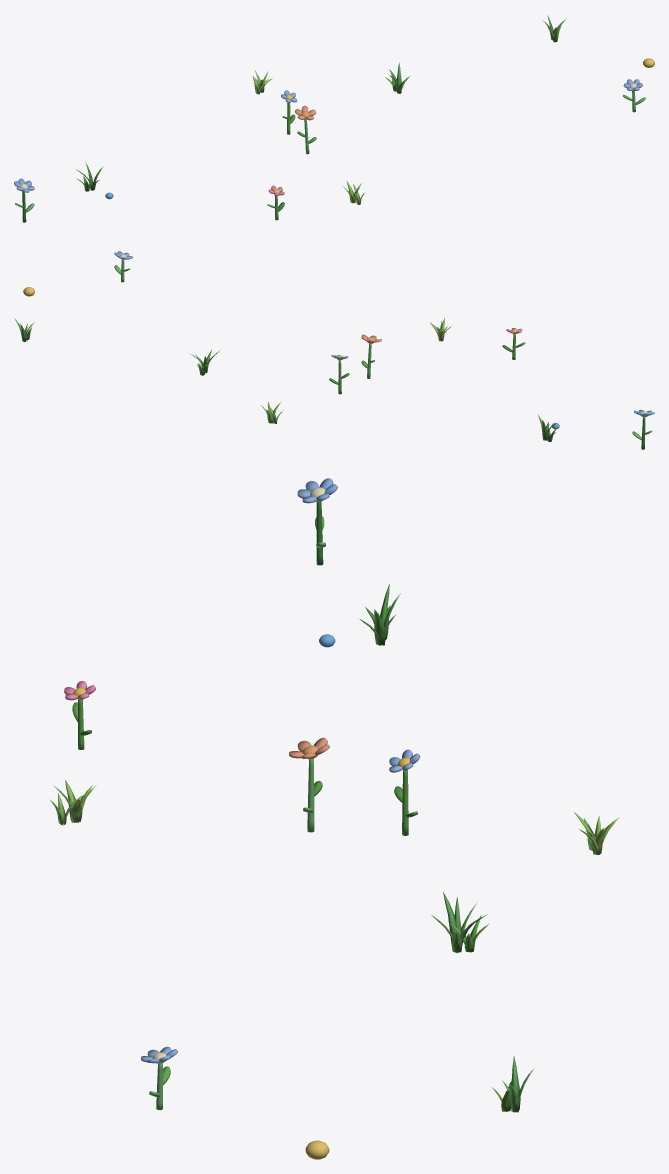
File: W4_FloraRing_10_12.fbx
3 views of the same model, one above another, from view 1: azimuth 30°, elevation 25°; view 2: azimuth 150°, elevation 25°; view 3: azimuth 270°, elevation 25° (orthographic). The views are drawn at different scales.
Parts seen in each view (by area): view 1: W4_FloraRing_10_12; view 2: W4_FloraRing_10_12; view 3: W4_FloraRing_10_12.
Boxes of the visible parts, <box> form: W4_FloraRing_10_12: <box>14,15,654,222</box>; W4_FloraRing_10_12: <box>14,251,654,449</box>; W4_FloraRing_10_12: <box>49,478,619,1159</box>.
Size of the model in its own units: 3.47 by 0.2403 by 1.36.
